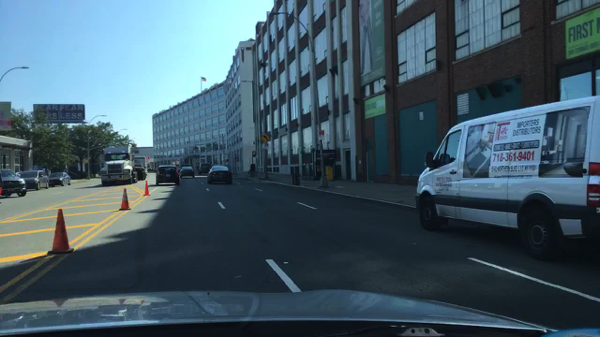car: (0, 167, 27, 198), (19, 169, 49, 191), (155, 166, 181, 188), (207, 165, 233, 186), (48, 173, 71, 188), (179, 166, 195, 180), (198, 162, 211, 174), (177, 164, 191, 169), (0, 178, 3, 195)
person: (313, 166, 321, 181)
traffic sign: (260, 132, 271, 143), (318, 129, 325, 141)
truck: (414, 95, 599, 261), (98, 144, 139, 187), (133, 155, 147, 180)
